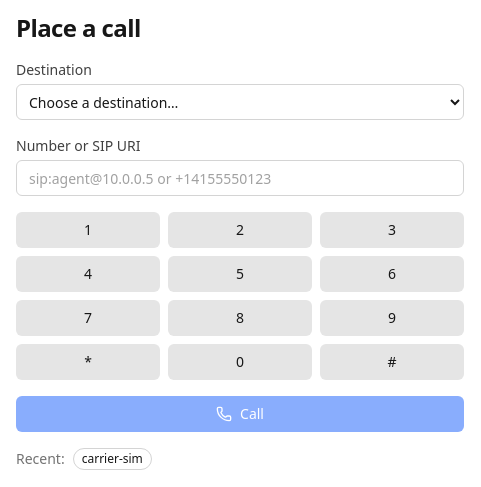
Dialler › fills the target from a recent destination
What coordinates should you click on to do the following:
click the button "carrier-sim"
I would click on:
 (112, 459)
Its box is [73,448,152,470].
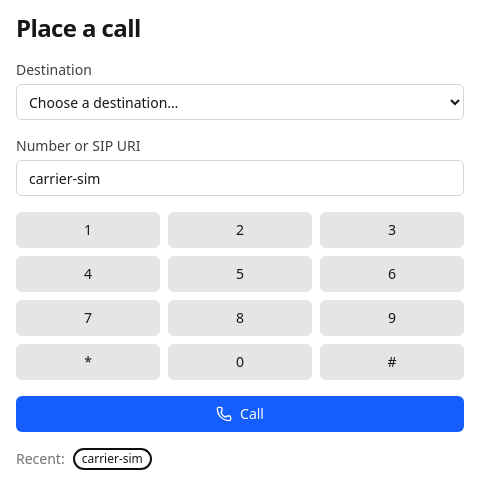
Now the field labelled "Number or SIP URI" holds "carrier-sim", box [16,160,464,196]
